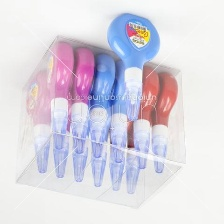book: (11, 31, 189, 211)
correction_fluid: (105, 10, 164, 123), (41, 74, 80, 180), (124, 63, 162, 170), (118, 91, 154, 196), (102, 57, 137, 164), (145, 68, 180, 175), (63, 80, 98, 185), (44, 41, 77, 150), (85, 49, 118, 158), (23, 68, 56, 175), (67, 44, 98, 154), (102, 88, 134, 193), (86, 84, 114, 189)
